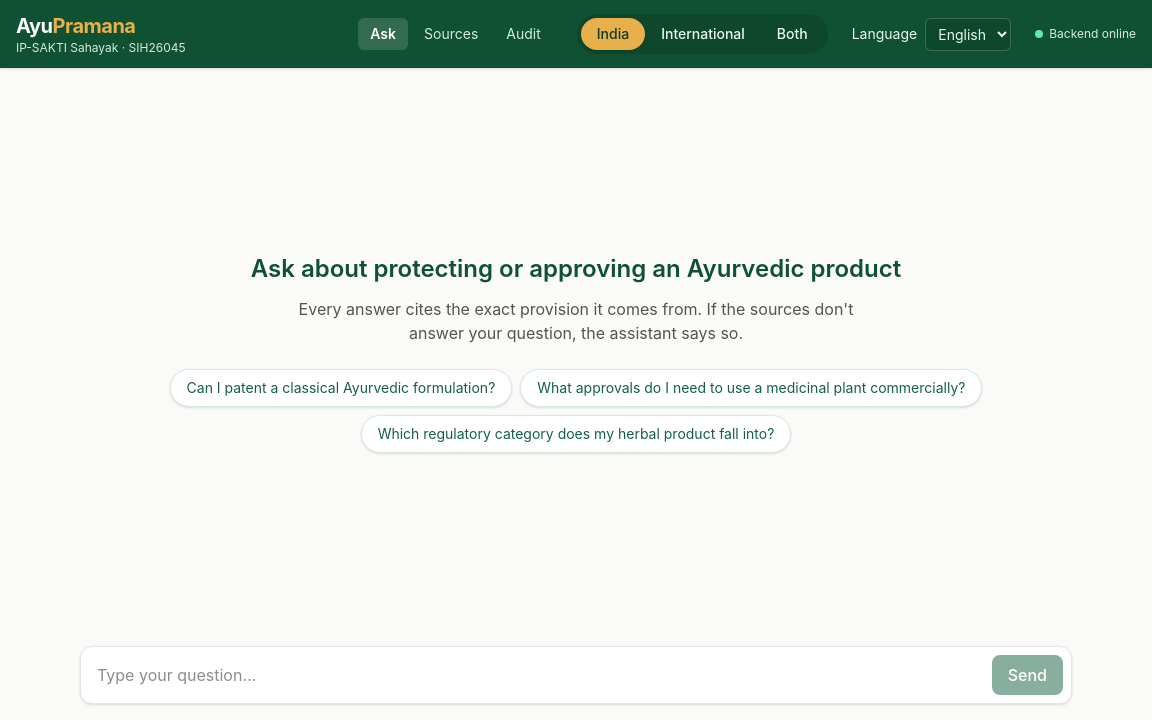
App shell › shows separate India and International cards with citation chips that open the source
Click the radio button labelled "Both": (792, 34) [761,18,824,50]
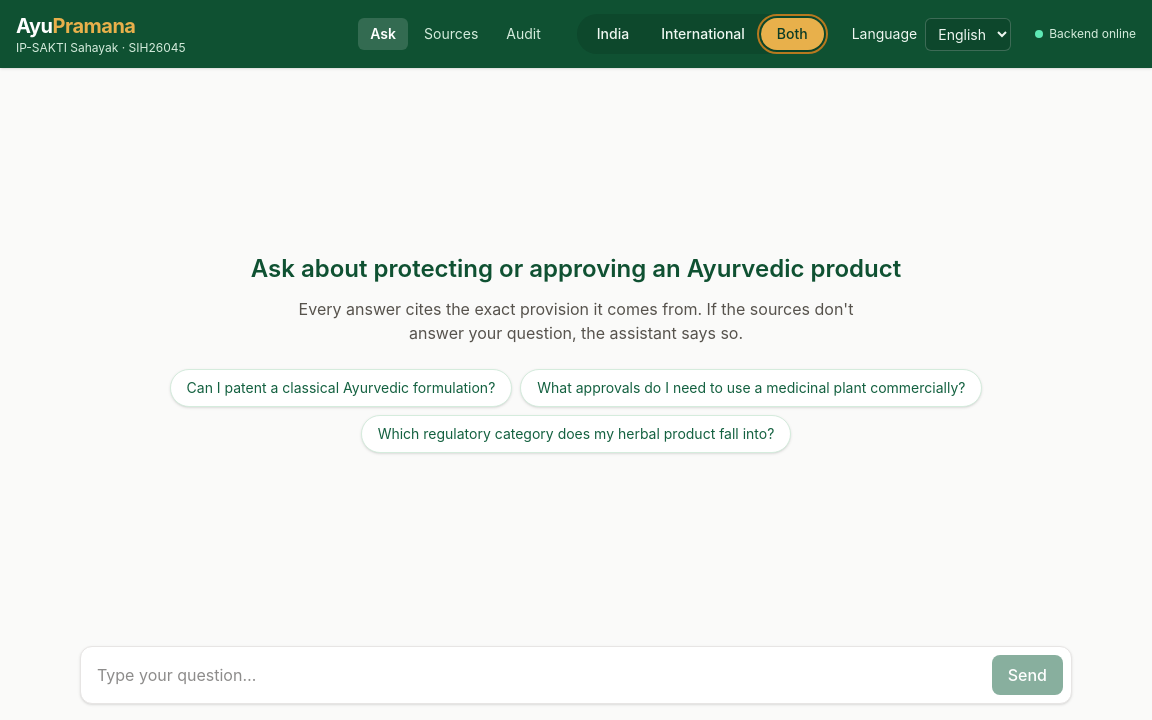
In the field: (536, 675) [89,655,984,695], type "How are widgets registered?"
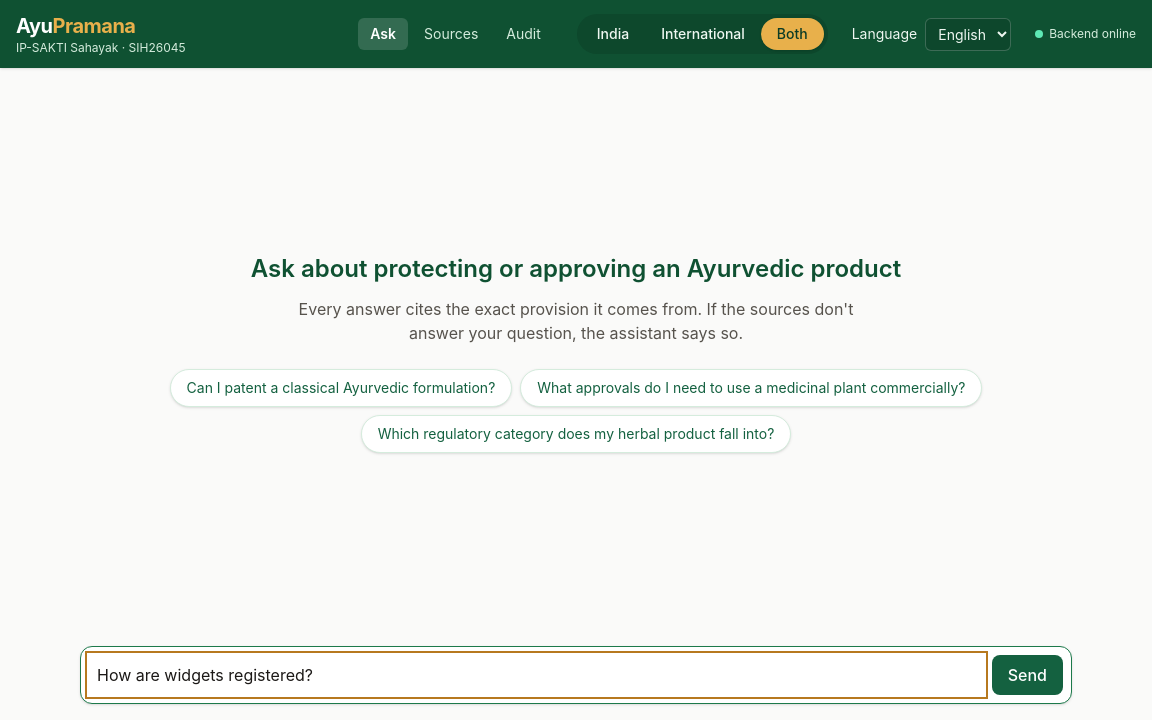
Click the button "Send": (1027, 675) [992,655,1063,695]
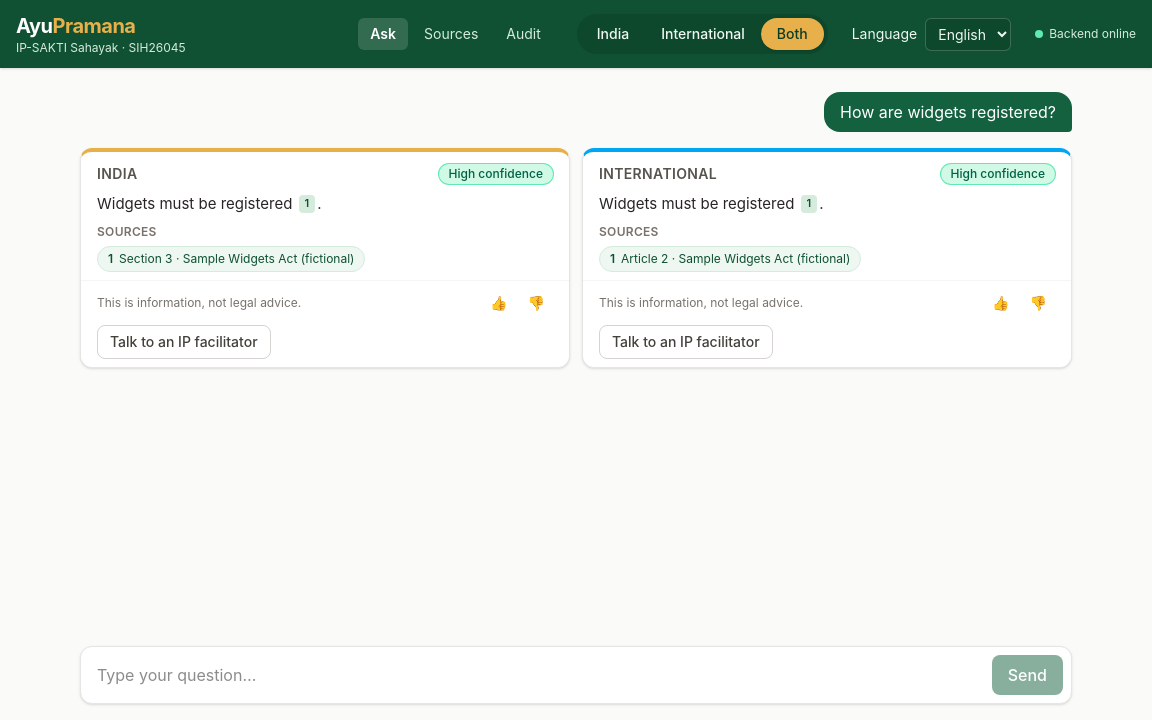
Expected: the 1st text "High confidence" is shown, [438,164,553,184]
Expected: the text "Article 2 · Sample Widgets Act (fictional)" is shown, [621,251,850,267]
Expected: the 1st text "This is information, not legal advice." is shown, [97,295,301,311]
Click the button "1 Section 3 · Sample Widgets Act (fictional)": (231, 259) [97,246,366,272]
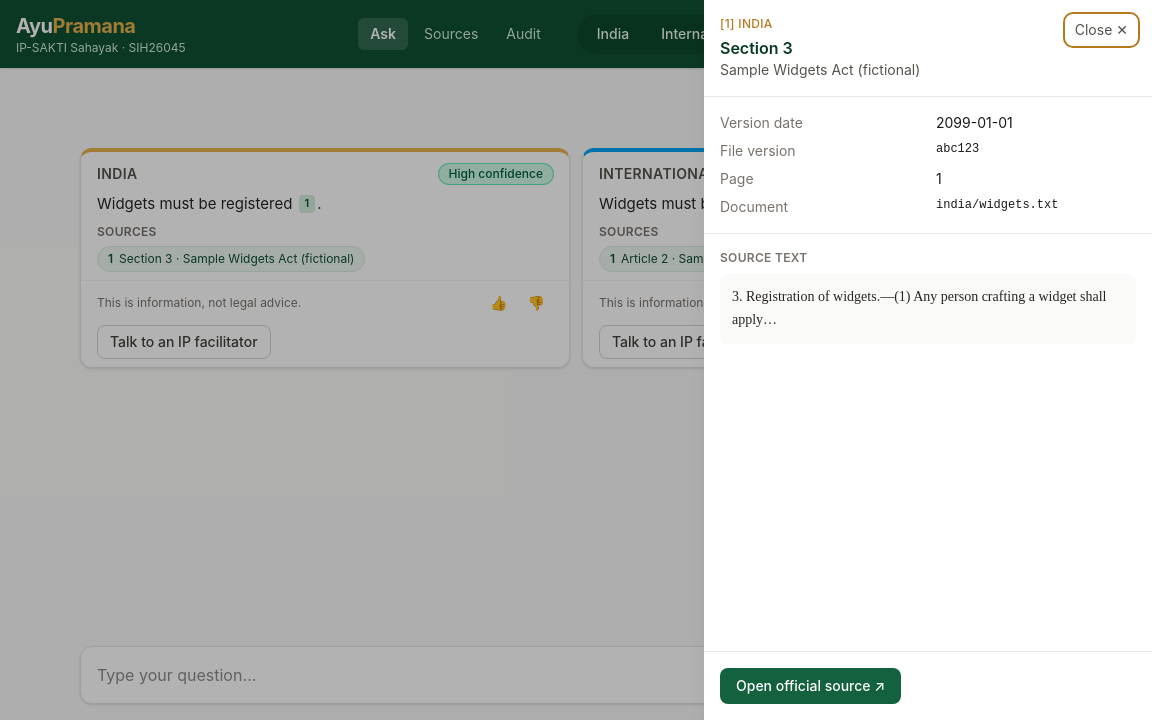
Expected: the text "Any person crafting a widget" is shown, [732,289,1110,327]
